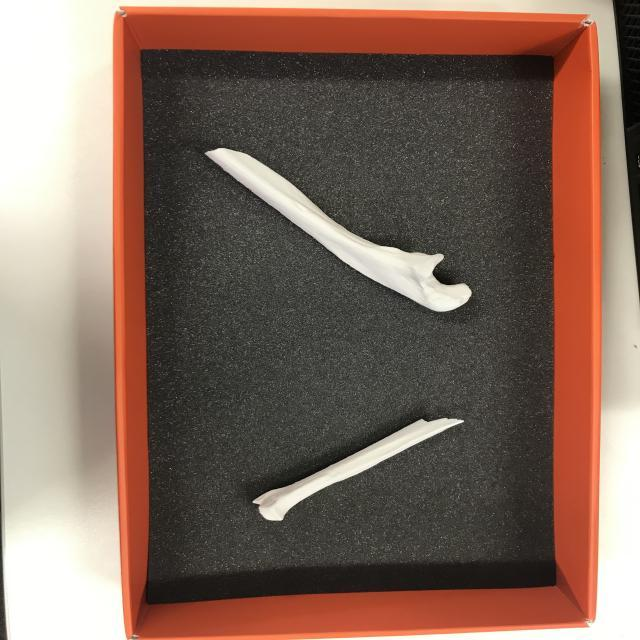bone: (203, 138, 478, 321), (254, 409, 474, 528)
